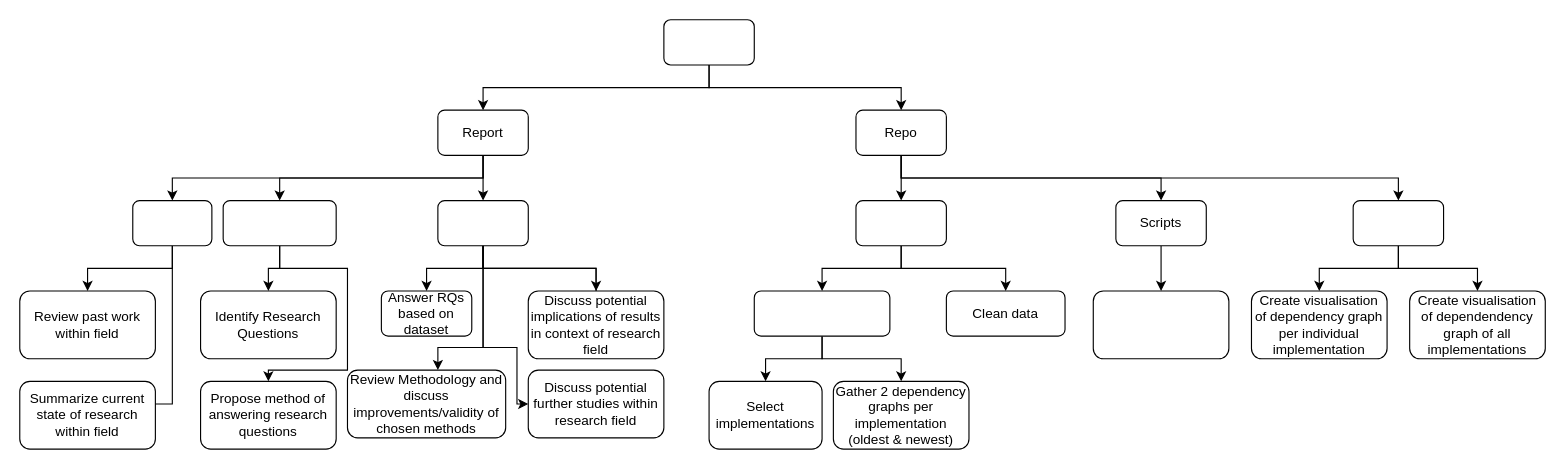
Some shapes in this 1565 by 469 pixel diagram are drawn without their labels. The shapes that lost their labels are listed below. From the top down, each one's centre as x and y in pixels, then its label:
the point at 708,42: KEX
the point at 172,222: Overview
the point at 279,222: Methodology
the point at 482,222: Analysis
the point at 900,222: Dataset
the point at 1398,222: Visualisations
the point at 821,313: Gather raw data
the point at 1160,324: Create scripts which can be used to reproduce data set
